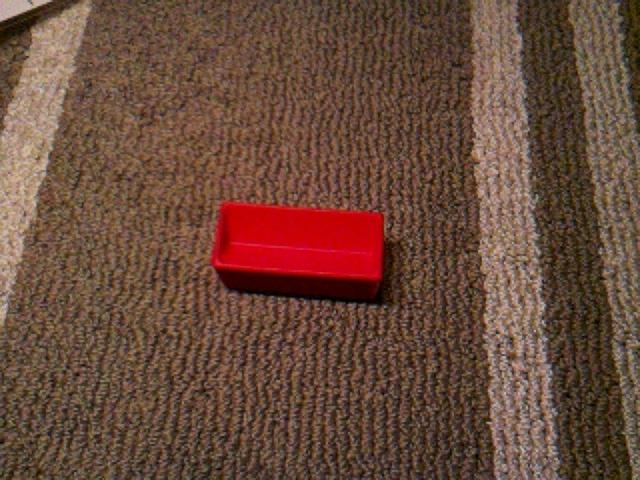red: (210, 200, 387, 303)
